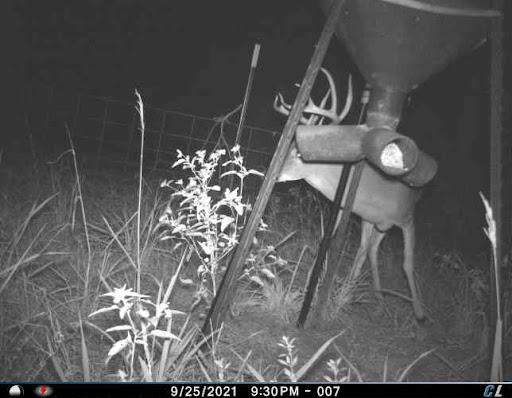Deer: (262, 56, 436, 328)
